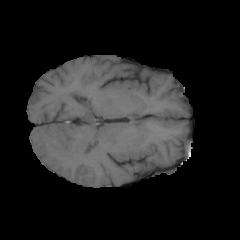glioma: (59, 138, 97, 160)
